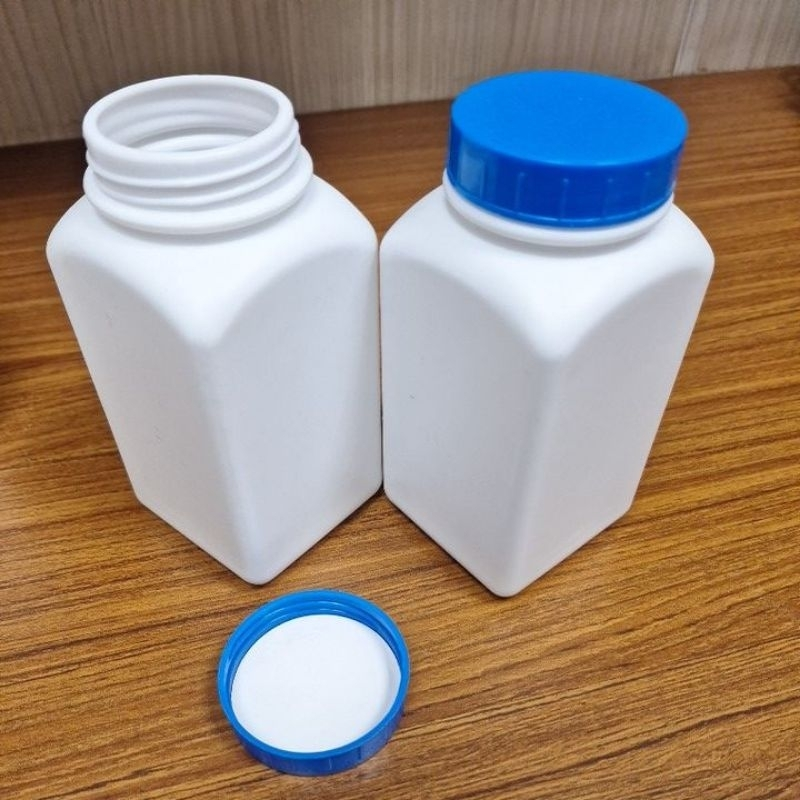medicinejar: (58, 77, 412, 768), (368, 61, 716, 612)
